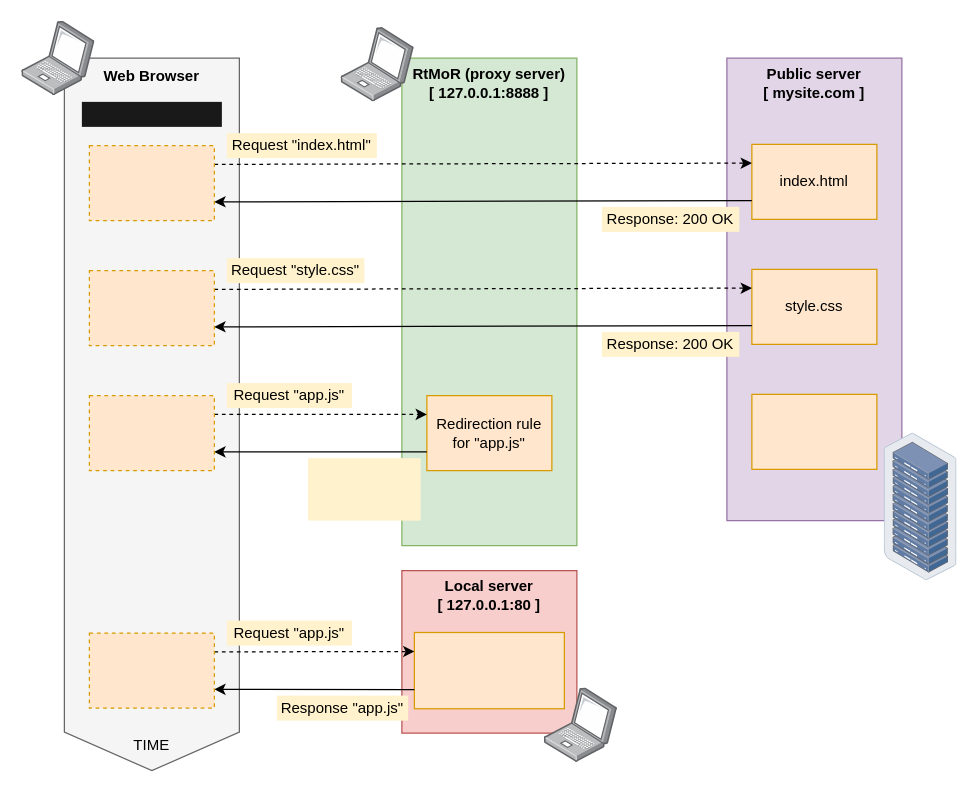
The diagram is 979 pixels wide and 793 high, and some of its shapes have lost their labels. Here are the shapes that lost their labels. From the top down, the box of each, then its label:
(81, 101, 221, 126): > https://mysite.com
(751, 393, 877, 469): app.js
(308, 458, 420, 520): Response: 307 Temporary Redirect
(413, 631, 564, 709): app.js (modified file)
